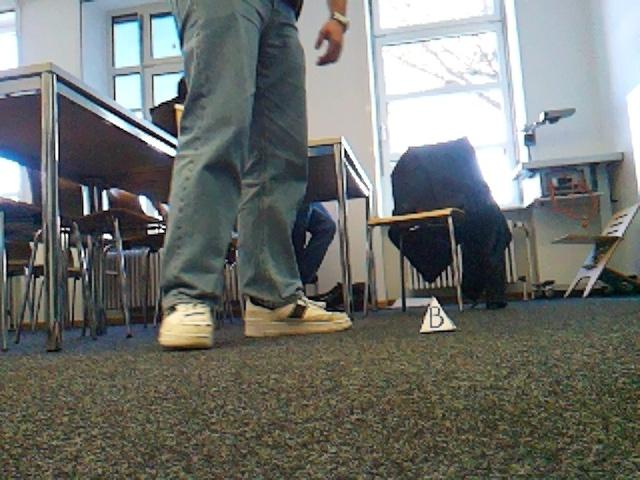B: (421, 296, 456, 332)
